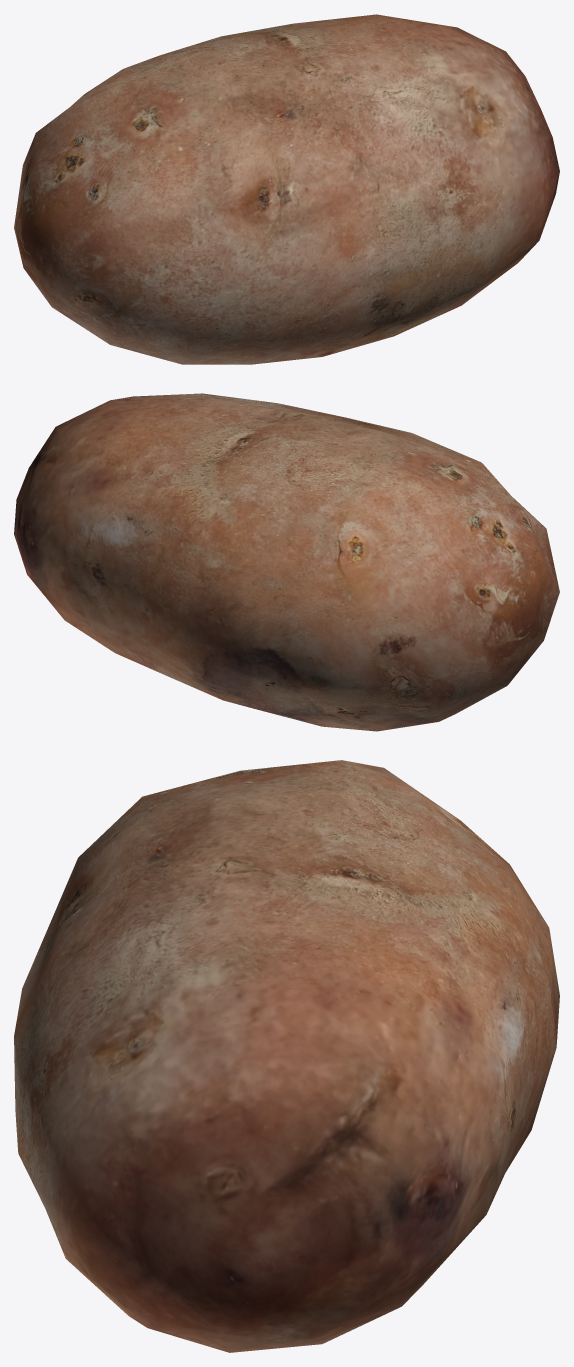
Rendered from A110_Potato_low.fbx.
3 views of the same model, one above another, from view 1: azimuth 30°, elevation 25°; view 2: azimuth 150°, elevation 25°; view 3: azimuth 270°, elevation 25° (orthographic). The views are drawn at different scales.
Visible parts, largest first — view 1: A110_Potato_low; view 2: A110_Potato_low; view 3: A110_Potato_low.
Boxes of the visible parts, x1,y1,x2,y2 form: A110_Potato_low: (14, 14, 559, 364); A110_Potato_low: (14, 393, 559, 731); A110_Potato_low: (14, 760, 559, 1352).
Bounding box in the file's own units: 7.3 × 4.49 × 3.85.
Materials: 1 (1 with a texture image).
